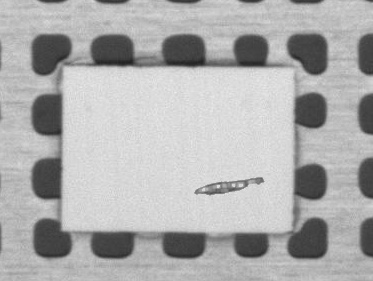DIE_INK: (193, 175, 266, 197)
